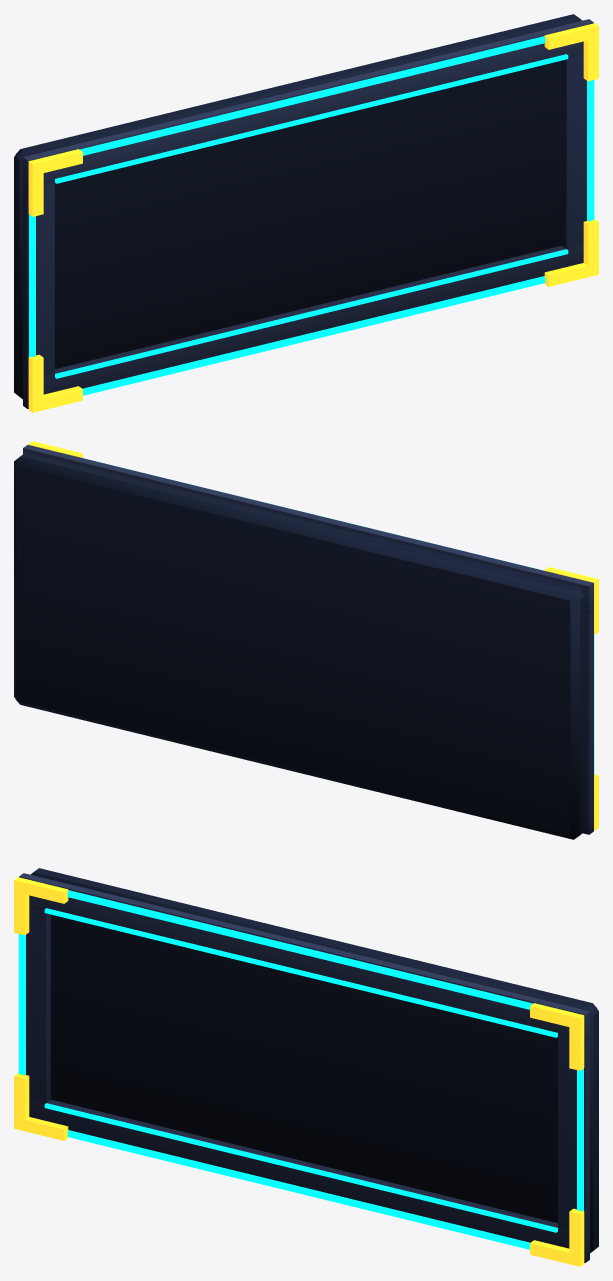
The model's file is accion_tarjeta.glb.
3 renders of one model, top to bottom at view 1: azimuth 30°, elevation 25°; view 2: azimuth 150°, elevation 25°; view 3: azimuth 330°, elevation 25°, orthographic.
Parts seen in each view (by area): view 1: accion_tarjeta; view 2: accion_tarjeta; view 3: accion_tarjeta.
Part boxes in pixels (x1,y1,x2,y2): accion_tarjeta: [14, 14, 598, 412]; accion_tarjeta: [14, 441, 598, 839]; accion_tarjeta: [14, 868, 598, 1266].
Size of the model in its own units: 0.62 by 0.26 by 0.0425.
